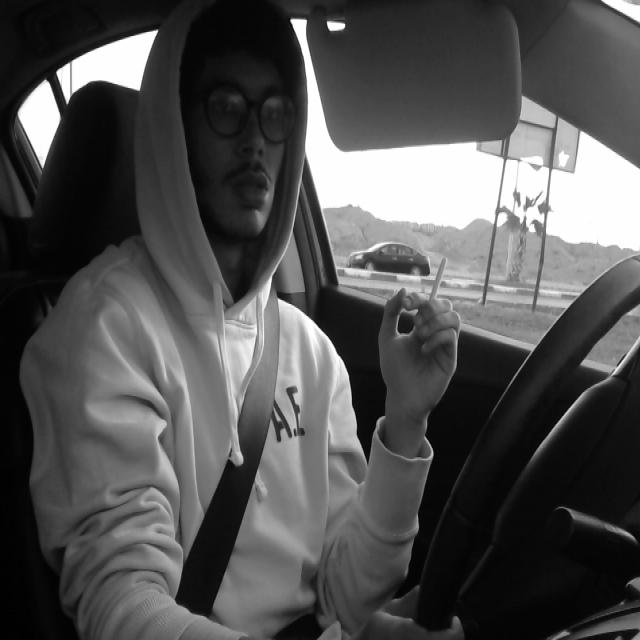smoking: (417, 256, 447, 344)
